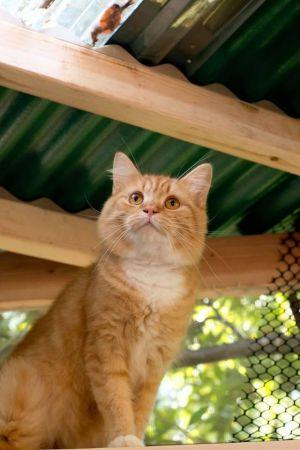persian: (92, 145, 222, 275)
